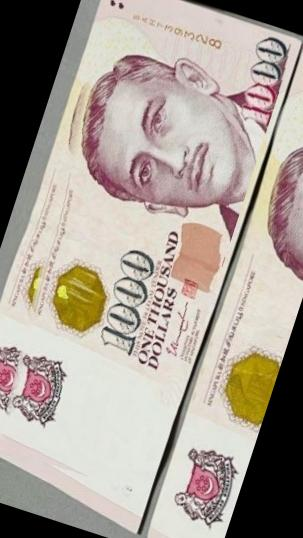1000SingaporeDollar: (0, 0, 294, 497)
